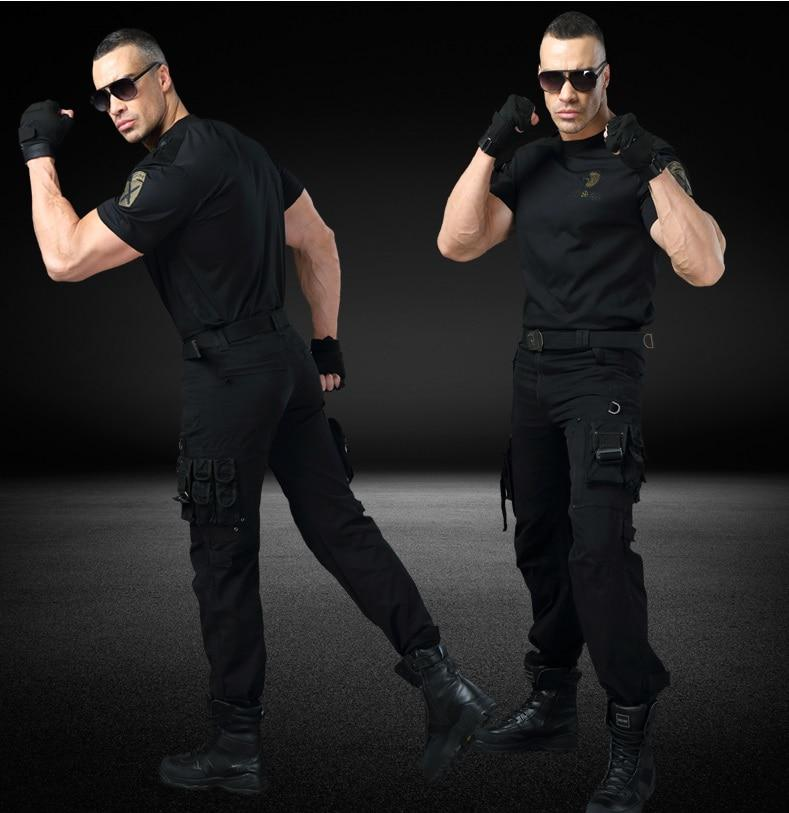pants: (180, 333, 471, 739), (485, 326, 680, 714)
